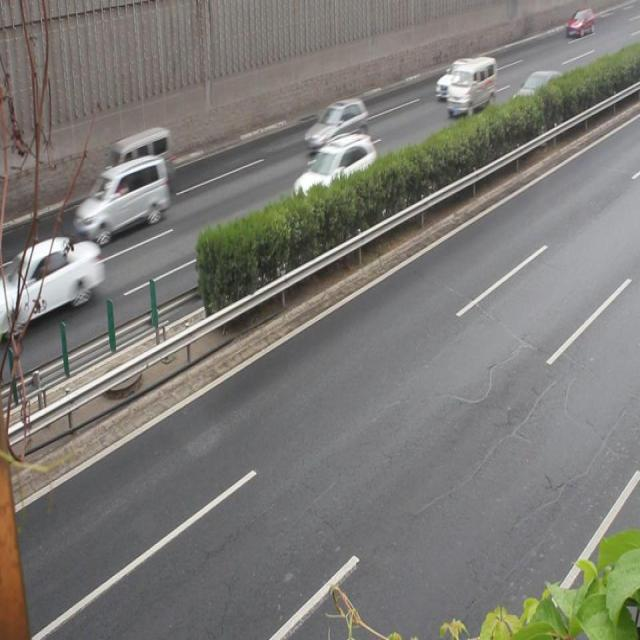car: (0, 236, 101, 325), (291, 132, 374, 211), (303, 97, 367, 153), (509, 69, 567, 128), (433, 57, 478, 98)
